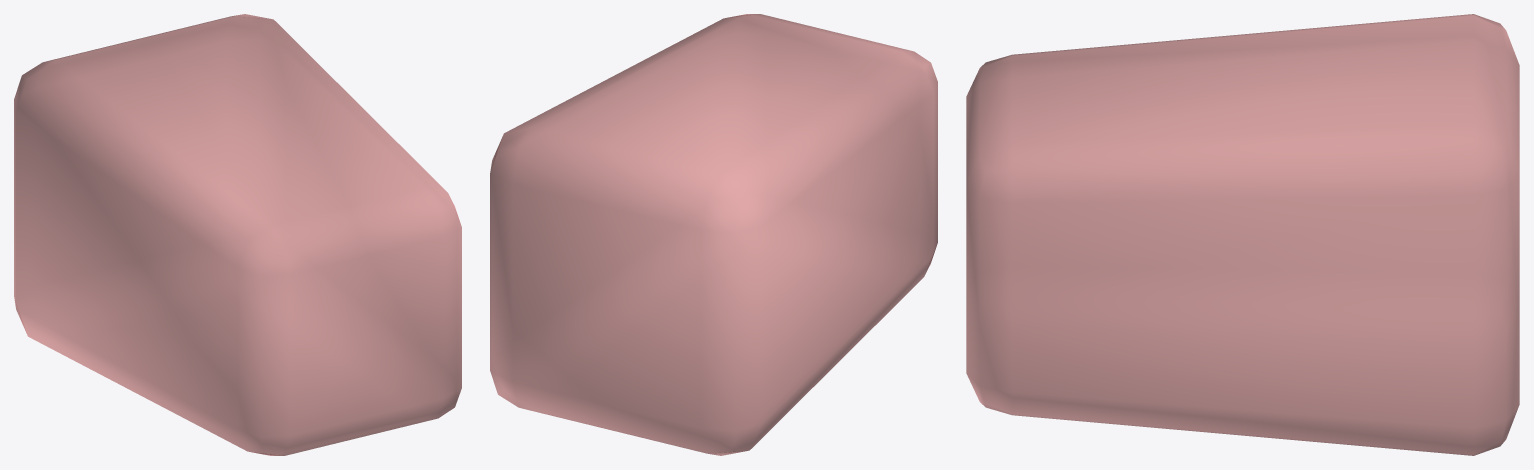
File: MeshSoapBottleVolume_8_1.obj
The picture shows the model from 3 angles, left to right: view 1: azimuth 30°, elevation 25°; view 2: azimuth 150°, elevation 25°; view 3: azimuth 270°, elevation 25°; orthographic projection. The views are drawn at different scales.
Visible parts, largest first — view 1: SoapBottleVolume_8; view 2: SoapBottleVolume_8; view 3: SoapBottleVolume_8.
Boxes of the visible parts, left/top/right/bottom form: SoapBottleVolume_8: left=14, top=14, right=461, bottom=455; SoapBottleVolume_8: left=490, top=14, right=937, bottom=455; SoapBottleVolume_8: left=966, top=14, right=1519, bottom=455.
Bounding box in the file's own units: 0.0916 × 0.0916 × 0.139.
